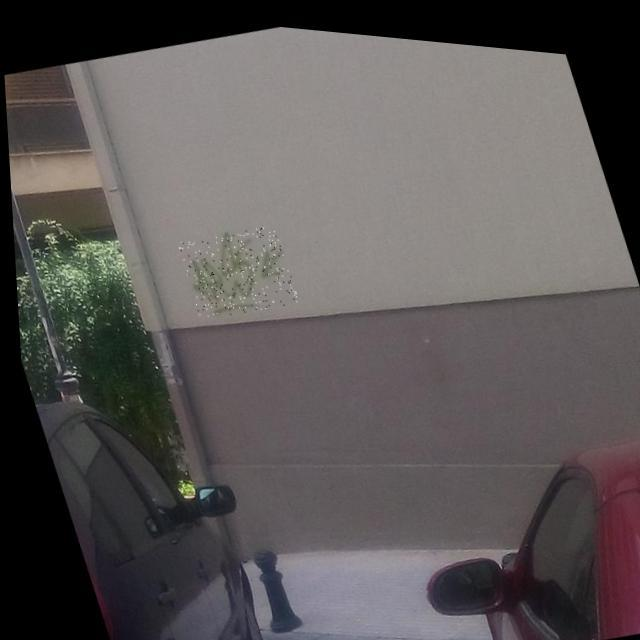-: (172, 212, 298, 324)
